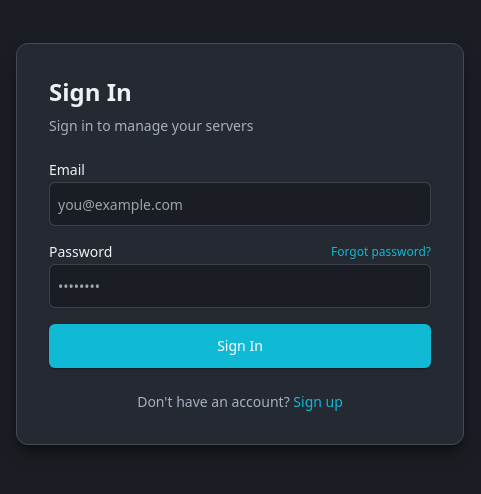
Scenario: LoginPage › displays generic error message for non-Error failures
Type "test@example.com" into the field labelled "Email" at [240, 204], box [49,182,431,226]
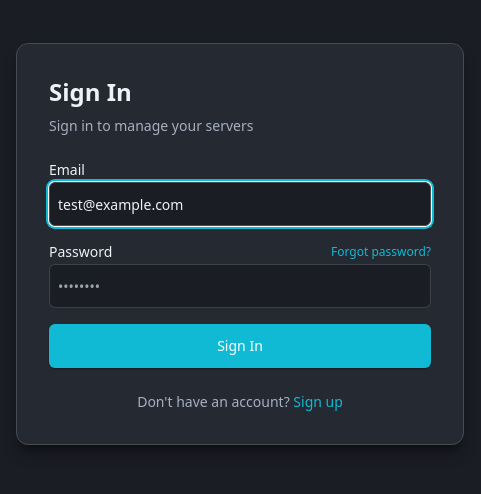
Type "password123" into the password field labelled "Password" at [240, 286], box [49,264,431,308]
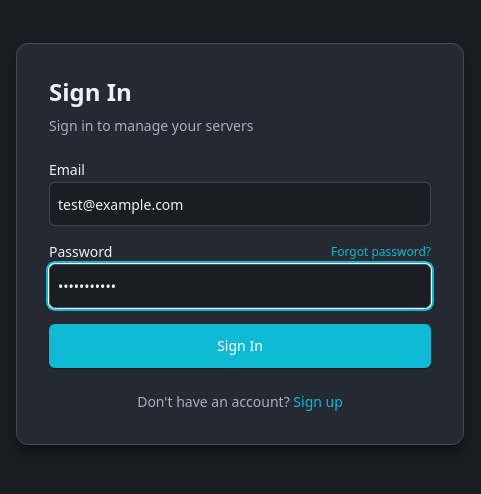
Click the button "Sign In" at [240, 346], box [49,324,431,368]
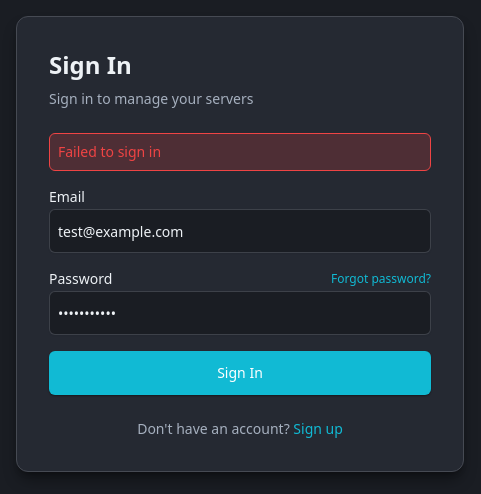
Expected: the text "Failed to sign in" is shown, [49,133,431,171]
